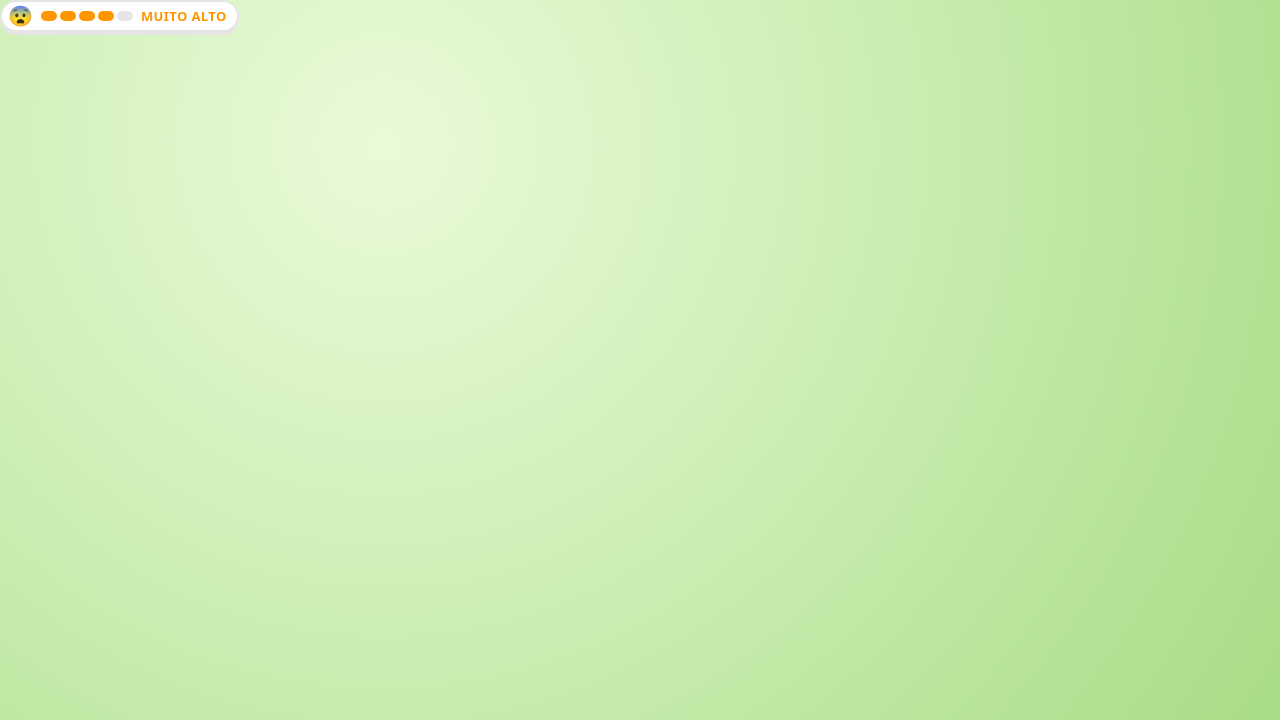
Test: DangerScale balloon (SCALE-03) › the balloon closes on ✕
Click the button with aria-label "Celulares".
click(119, 16)  # box [0,0,239,32]
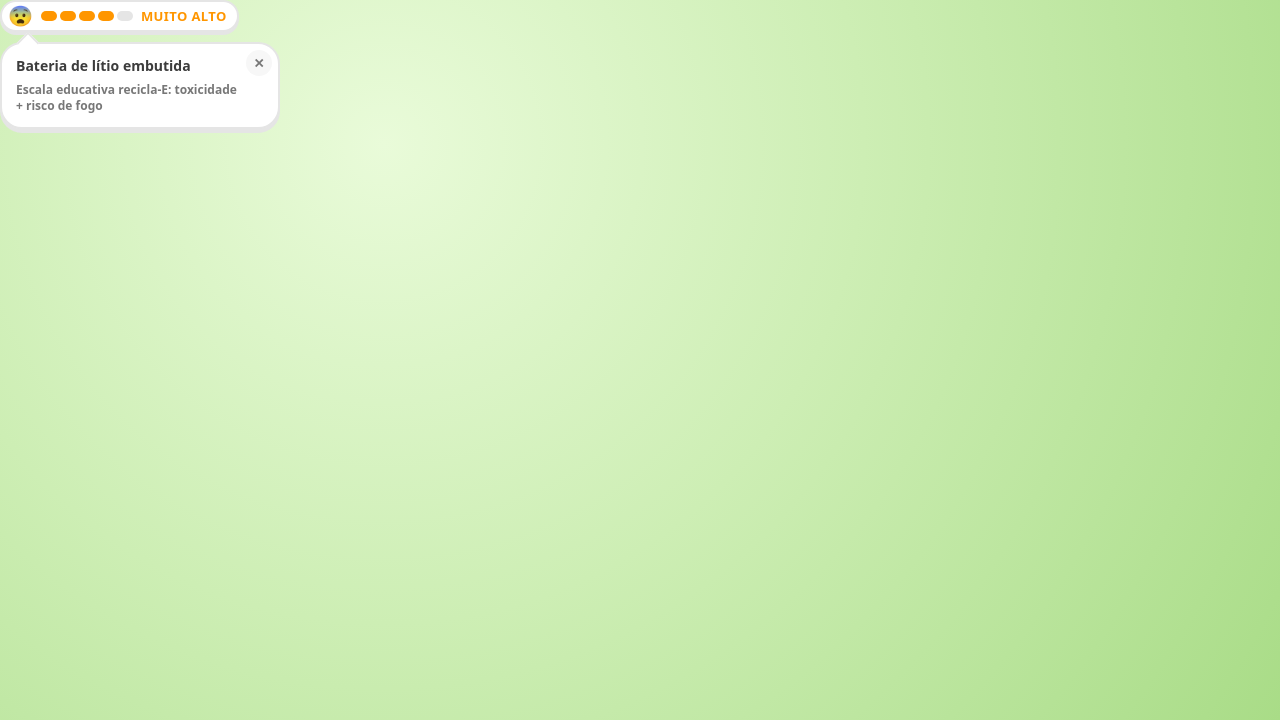
Click the button named "Fechar".
click(259, 63)  # box [246,50,272,76]
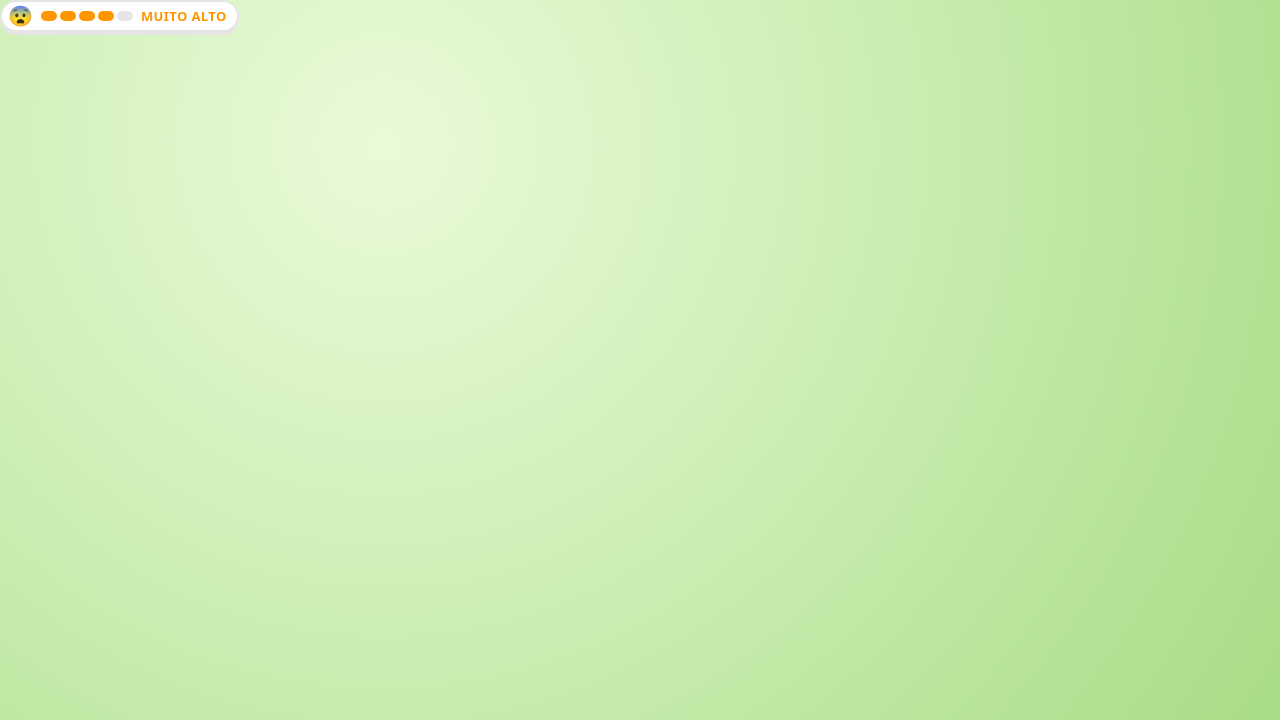
Expected: the text "Bateria de lítio embutida" is gone
